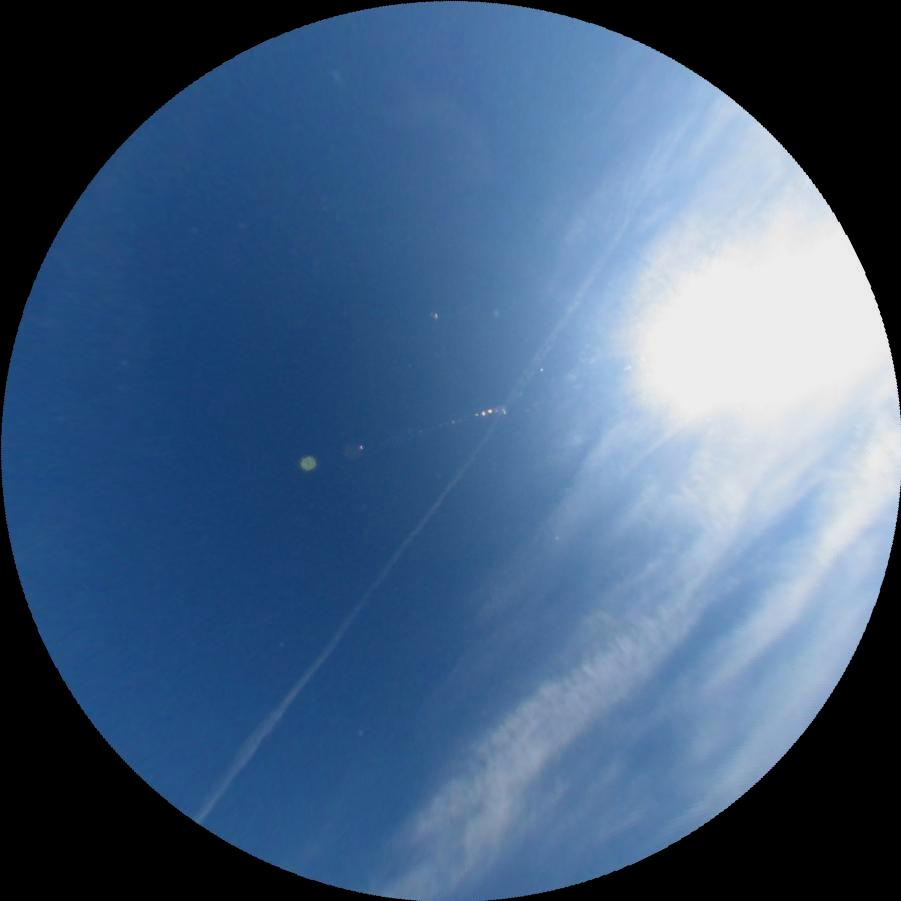contrail old: (189, 81, 729, 832)
sun: (638, 235, 892, 423)
